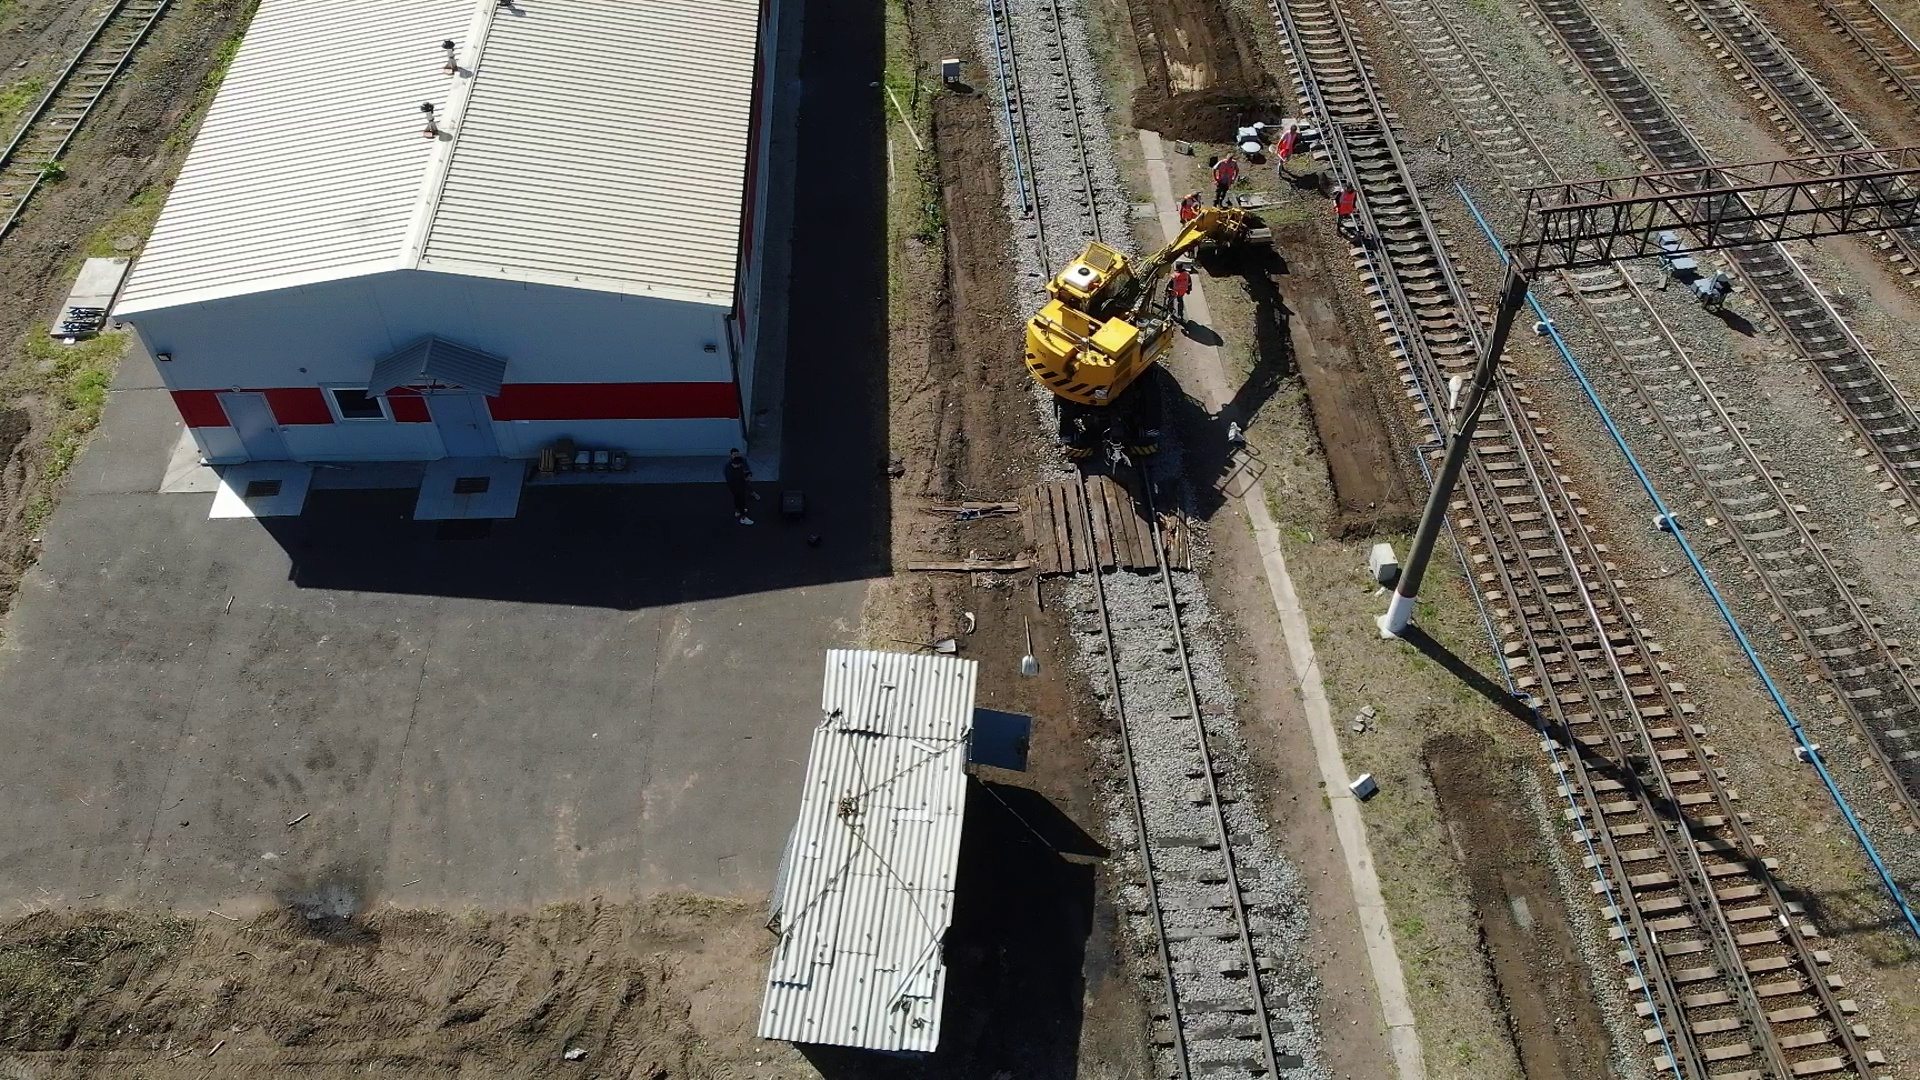kjtv: (1021, 240, 1187, 452)
